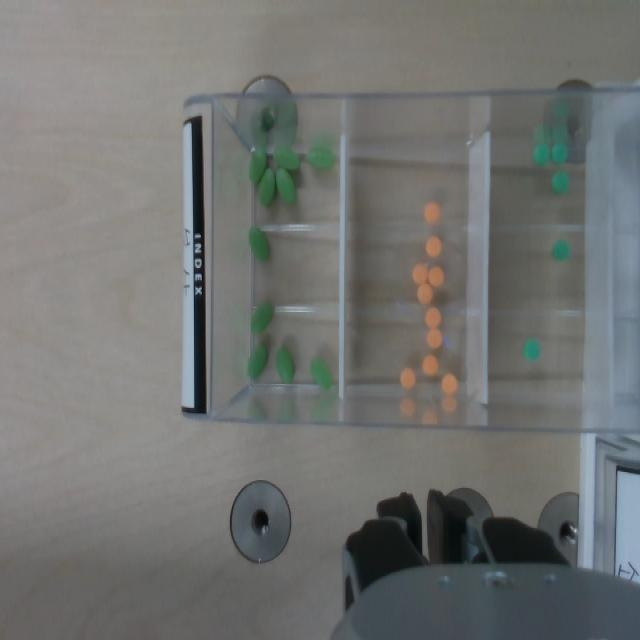famodine: (524, 338, 542, 364), (554, 237, 570, 262), (551, 171, 569, 193), (552, 142, 569, 165), (533, 143, 550, 164)
otillen_tab: (248, 224, 270, 262), (250, 302, 275, 334), (275, 346, 295, 384), (277, 166, 296, 204), (310, 356, 332, 388), (306, 147, 334, 170), (274, 146, 300, 170), (247, 348, 266, 378), (250, 148, 265, 183), (260, 168, 274, 204)
samsung_octylonium_tab: (442, 372, 458, 395), (428, 267, 445, 288), (424, 201, 440, 223), (427, 236, 442, 259), (413, 263, 429, 283), (427, 328, 443, 348), (426, 308, 441, 329), (424, 355, 438, 377), (418, 283, 432, 304), (401, 368, 415, 387)
